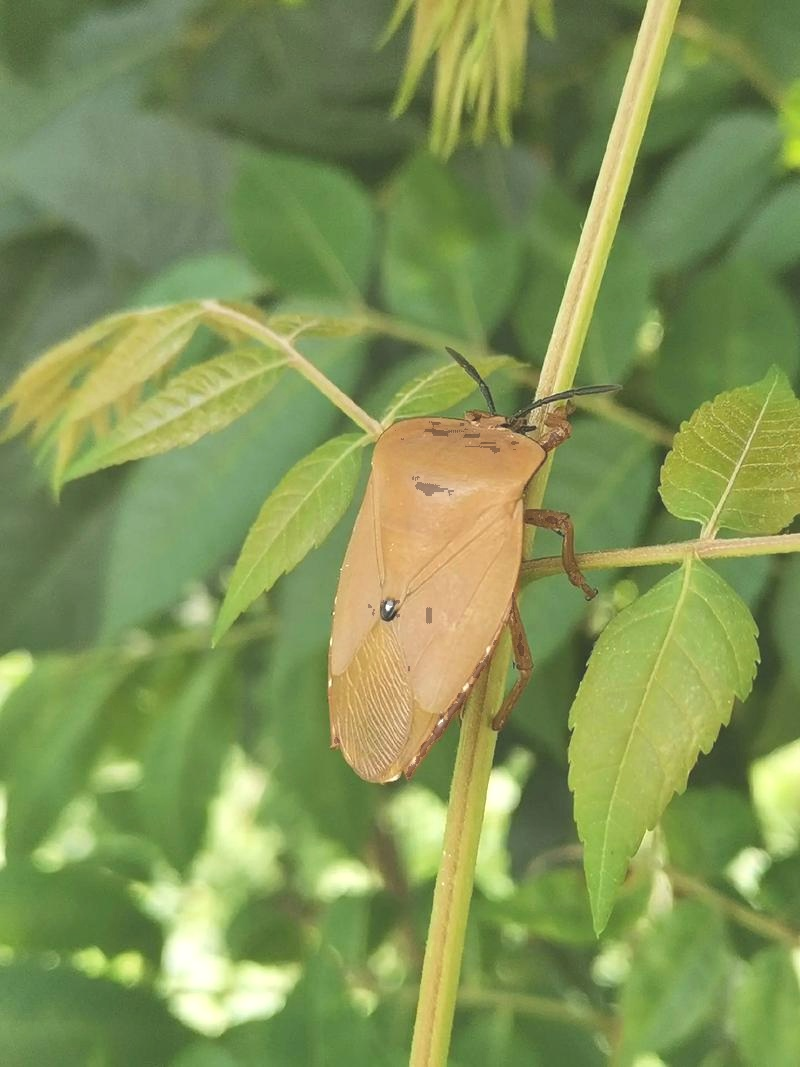Stink_Bug: (309, 384, 581, 788)
